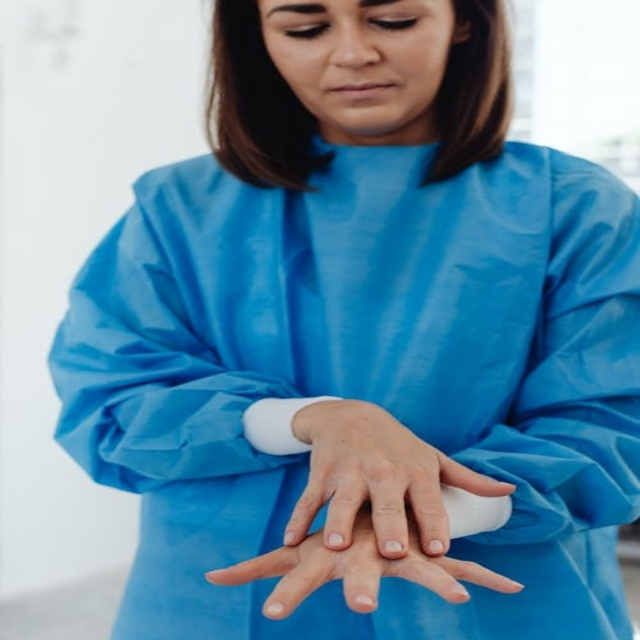Sin_gafas: (265, 2, 435, 42)
Sin_guantes: (280, 397, 516, 560), (207, 515, 520, 619)
Sin_mascara: (311, 78, 416, 121)
